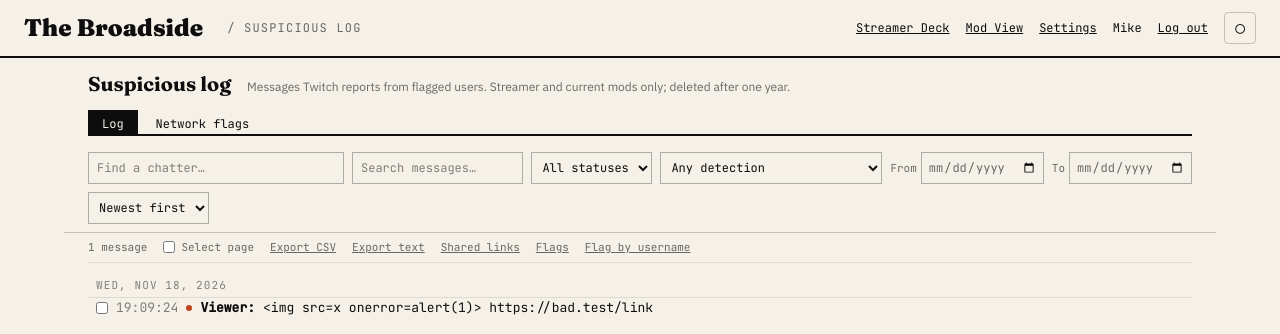
Scenario: SuspiciousLogView › narrows to one chatter when their name is clicked
This screenshot has width=1280, height=334.
Click the button "Viewer" at (228, 308), box top-left (200, 298), bottom-right (255, 318)
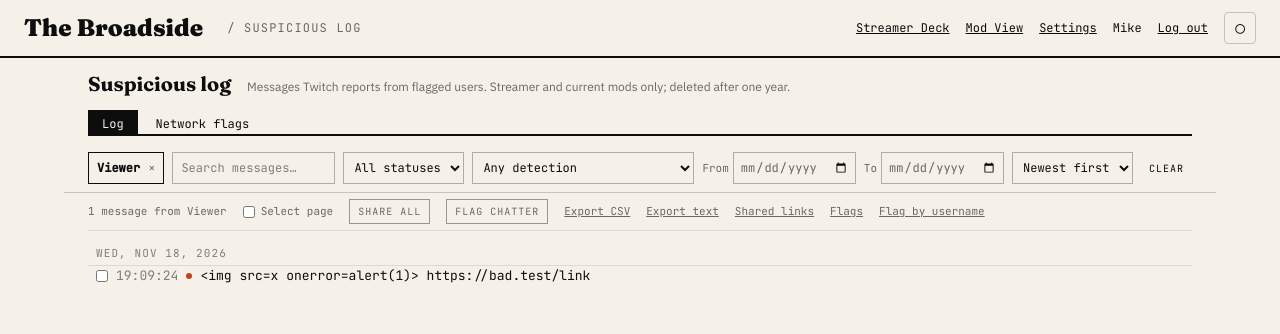
Expected: the button named "Clear chatter" is shown, top-left (148, 160), bottom-right (155, 176)
